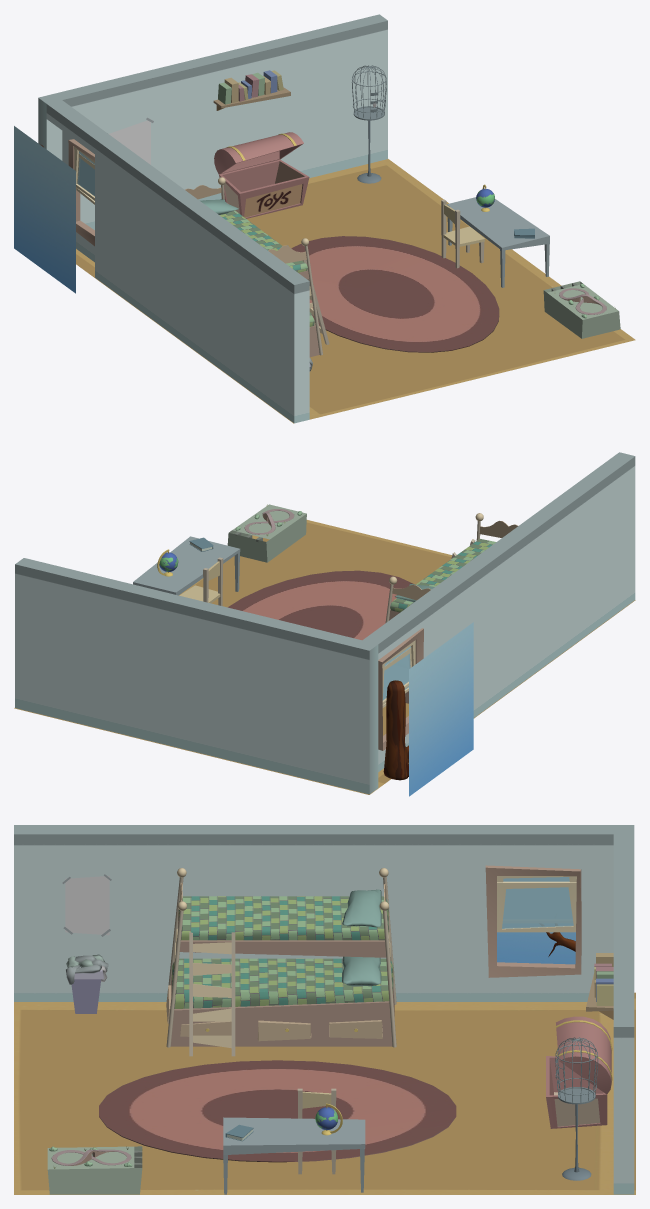
File: room_environment.fbx
The picture shows the model from 3 angles, top to bottom: view 1: azimuth 30°, elevation 25°; view 2: azimuth 150°, elevation 25°; view 3: azimuth 270°, elevation 25°; orthographic projection. The views are drawn at different scales.
Visible parts, largest first — view 1: wall, floor1, carpet1, sky, chest__container, table1, bed2, racing_track1, chest_lid, chair, cage_top, big_poster (+2 smaller); view 2: wall, floor1, sky, carpet1, racing_track1, table1, bed2, tree, winow_frame, window_pane_back, chair; view 3: wall, floor1, bed2, carpet1, table1, racing_track1, window_pane_front, winow_frame, lader, chest_lid, chest__container, smallposter (+6 smaller).
Part boxes in pixels (x1,y1,x2,y2): wall: (38,14,387,423); floor1: (76,159,635,423); carpet1: (291,236,499,352); sky: (14,126,75,293); chest__container: (219,159,309,218); table1: (447,197,549,287); bed2: (185,177,322,357); racing_track1: (543,281,620,338); chest_lid: (214,132,303,174); chair: (441,199,484,268); cage_top: (351,65,386,120); big_poster: (107,117,153,164); wall: (15,452,635,794); floor1: (14,520,635,794); sky: (409,622,473,796); carpet1: (228,570,413,640); racing_track1: (227,504,306,562); table1: (133,536,240,595); bed2: (385,513,518,703); tree: (383,680,408,780); winow_frame: (378,628,423,750); window_pane_back: (382,640,415,704); chair: (179,557,223,605); wall: (14,825,634,1194); floor1: (14,992,635,1194); bed2: (166,868,396,1047); carpet1: (99,1060,456,1162); table1: (223,1117,365,1194); racing_track1: (47,1146,142,1194); window_pane_front: (497,881,576,932); winow_frame: (485,865,581,977); lader: (189,932,235,1056); chest_lid: (555,1016,612,1094); chest__container: (546,1056,607,1128); smallposter: (62,874,111,936).
Bounding box in the file's own units: 54.3 × 19.61 × 64.66.
47 materials, 8 textured.
